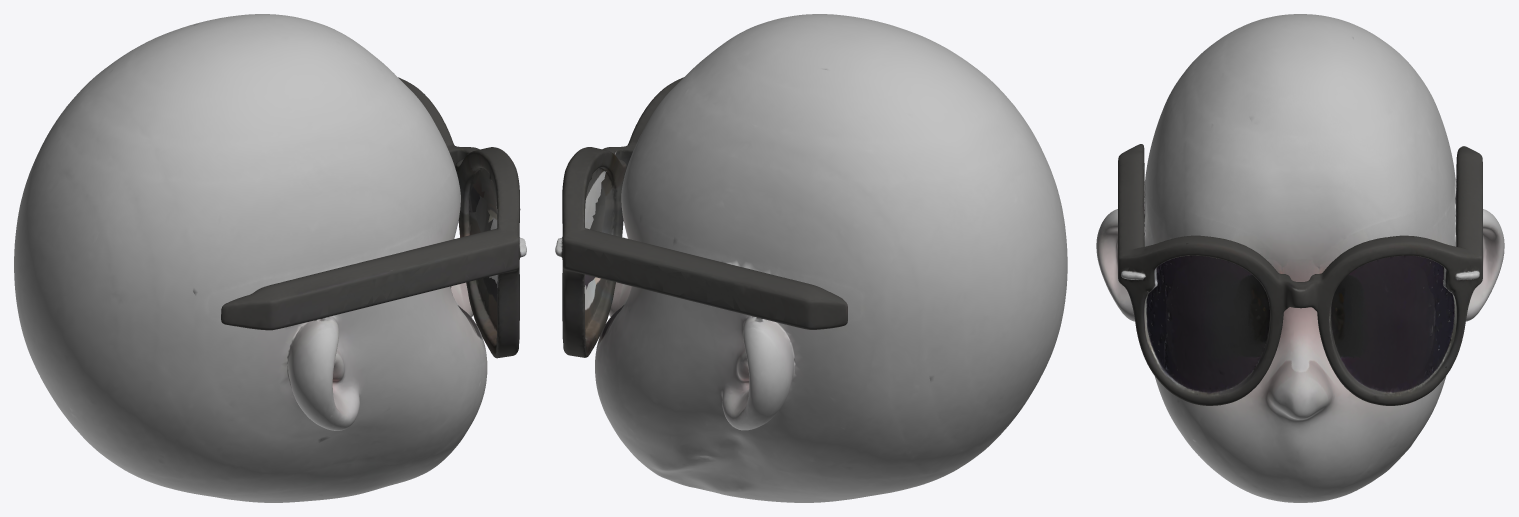
File: prevention-eye.glb
The picture shows the model from 3 angles, left to right: view 1: azimuth 30°, elevation 25°; view 2: azimuth 150°, elevation 25°; view 3: azimuth 270°, elevation 25°; orthographic projection. The views are drawn at different scales.
Parts seen in each view (by area): view 1: PreventionEye; view 2: PreventionEye; view 3: PreventionEye.
Boxes of the visible parts, x1=… form: PreventionEye: x1=14, y1=14, x2=526, y2=502; PreventionEye: x1=555, y1=14, x2=1067, y2=502; PreventionEye: x1=1096, y1=14, x2=1504, y2=502.
Size of the model in its own units: 0.22 by 0.22 by 0.2.
Materials: 1 (1 with a texture image).
